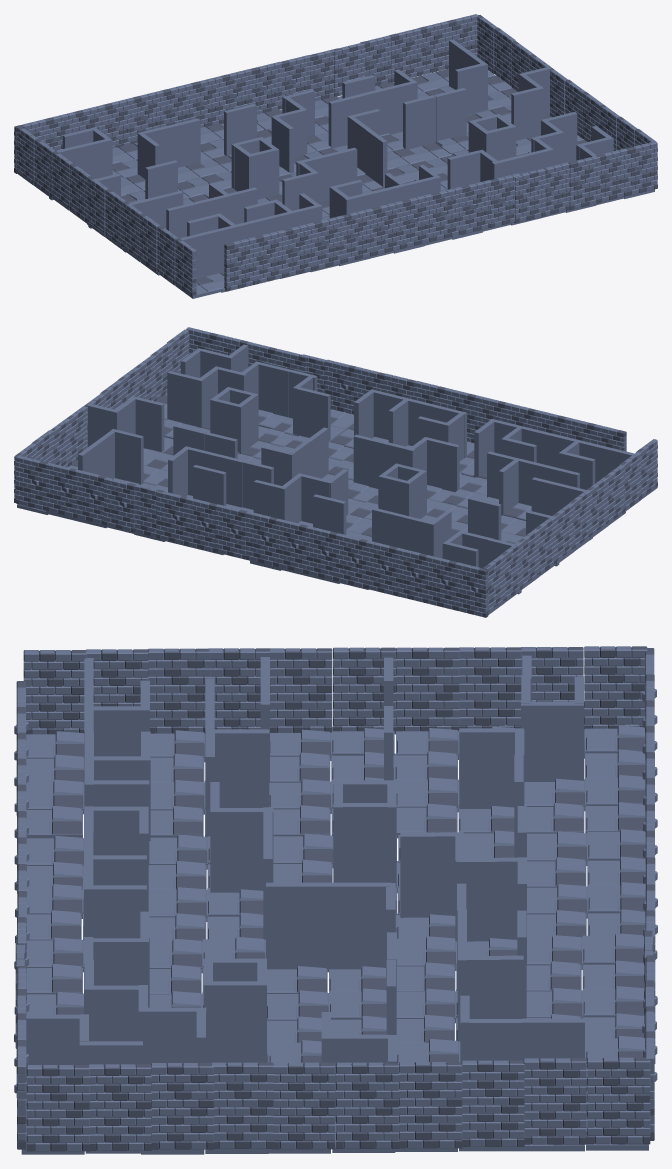
Rendered from сдыркой.fbx.
3 views of the same model, one above another, from view 1: azimuth 30°, elevation 25°; view 2: azimuth 150°, elevation 25°; view 3: azimuth 270°, elevation 25° (orthographic). The views are drawn at different scales.
Visible parts, largest first — view 1: floor.019, floor.010, floor.021, floor.006, smooth wall.009, brick wall.045, brick wall.034, brick wall.032, brick wall.047, smooth wall.060, brick wall.039, brick wall.040 (+95 smaller); view 2: floor.010, floor.021, floor.019, brick wall.020, floor.006, smooth wall.029, brick wall.009, brick wall.007, brick wall.014, brick wall.006, brick wall.011, brick wall.019 (+105 smaller); view 3: floor.006, floor.019, floor.010, floor.027, floor.021, brick wall.048, brick wall.057, brick wall.052, brick wall.051, brick wall.055, brick wall.053, brick wall.049 (+52 smaller).
Boxes of the visible parts, x1=… form: floor.019: x1=257, y1=96, x2=453, y2=193; floor.010: x1=133, y1=123, x2=329, y2=220; floor.021: x1=375, y1=68, x2=587, y2=162; floor.006: x1=17, y1=143, x2=208, y2=275; smooth wall.009: x1=403, y1=95, x2=435, y2=149; brick wall.045: x1=224, y1=237, x2=256, y2=291; brick wall.034: x1=568, y1=156, x2=600, y2=209; brick wall.032: x1=626, y1=141, x2=657, y2=195; brick wall.047: x1=514, y1=168, x2=545, y2=223; smooth wall.060: x1=511, y1=87, x2=543, y2=140; brick wall.039: x1=401, y1=194, x2=433, y2=248; brick wall.040: x1=372, y1=201, x2=403, y2=255; floor.010: x1=250, y1=473, x2=486, y2=589; floor.021: x1=17, y1=401, x2=269, y2=533; floor.019: x1=134, y1=429, x2=354, y2=560; brick wall.020: x1=455, y1=562, x2=488, y2=617; floor.006: x1=369, y1=497, x2=625, y2=614; smooth wall.029: x1=427, y1=438, x2=459, y2=492; brick wall.009: x1=103, y1=477, x2=135, y2=532; brick wall.007: x1=45, y1=462, x2=76, y2=518; brick wall.014: x1=275, y1=518, x2=307, y2=573; brick wall.006: x1=15, y1=455, x2=47, y2=510; brick wall.011: x1=185, y1=497, x2=216, y2=552; brick wall.019: x1=425, y1=555, x2=457, y2=610; floor.006: x1=150, y1=725, x2=645, y2=838; floor.019: x1=149, y1=933, x2=643, y2=1042; floor.010: x1=148, y1=829, x2=645, y2=941; floor.027: x1=26, y1=835, x2=83, y2=994; floor.021: x1=141, y1=1035, x2=648, y2=1154; brick wall.048: x1=587, y1=1057, x2=650, y2=1144; brick wall.057: x1=26, y1=1065, x2=89, y2=1151; brick wall.052: x1=336, y1=1062, x2=399, y2=1148; brick wall.051: x1=399, y1=1062, x2=462, y2=1148; brick wall.055: x1=151, y1=1063, x2=214, y2=1149; brick wall.053: x1=272, y1=1062, x2=335, y2=1149; brick wall.049: x1=523, y1=1058, x2=586, y2=1144.
Bounding box in the file's own units: 3274 × 355 × 2144.
